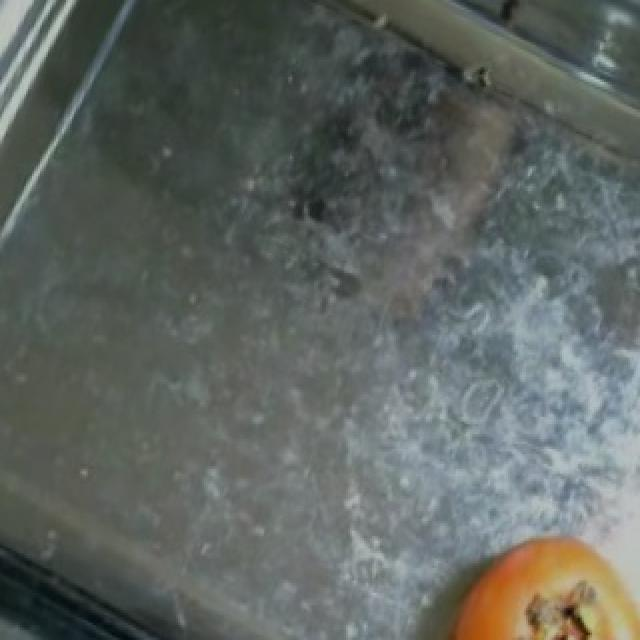Fruit: (422, 513, 640, 640)
